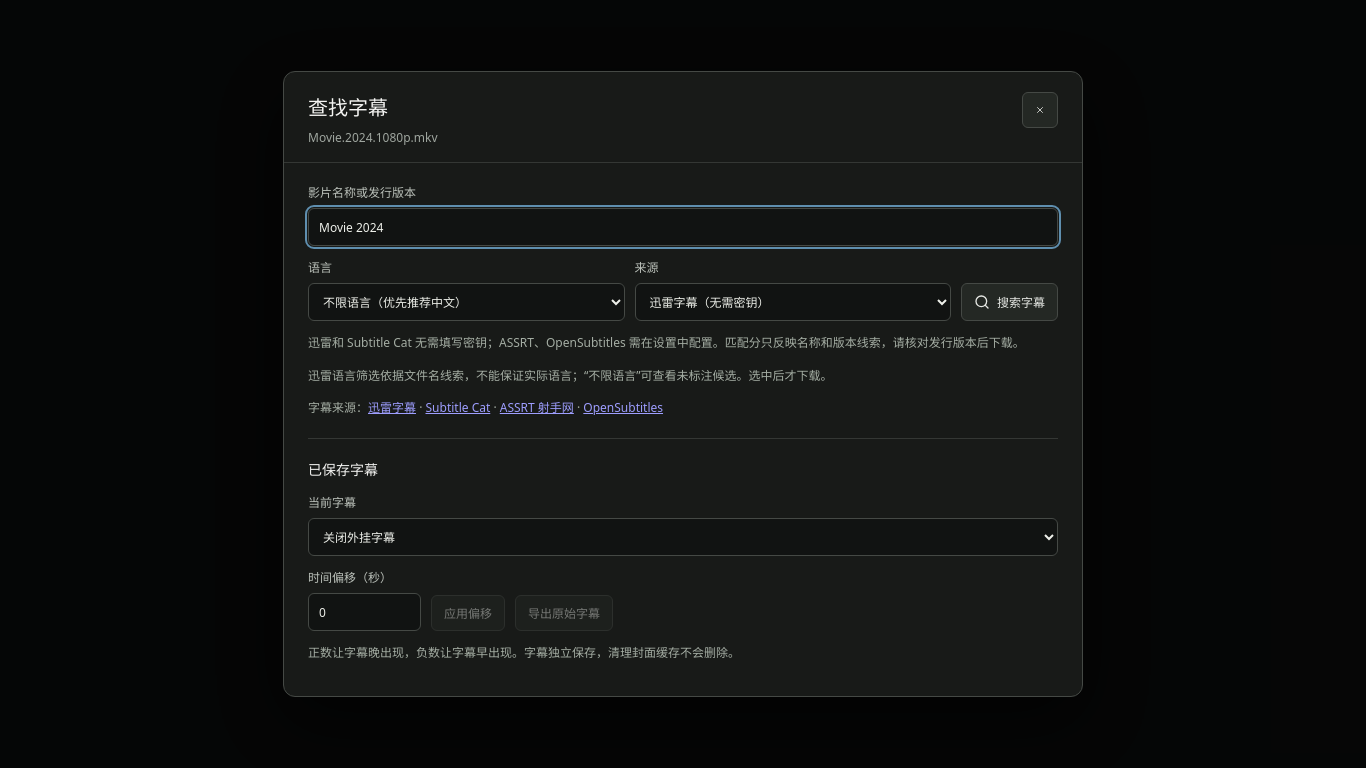
Test: subtitle interaction › does not call an outage a zero-result search
The image size is (1366, 768).
Click the button "搜索字幕" at (1010, 302), box [961, 283, 1058, 321]
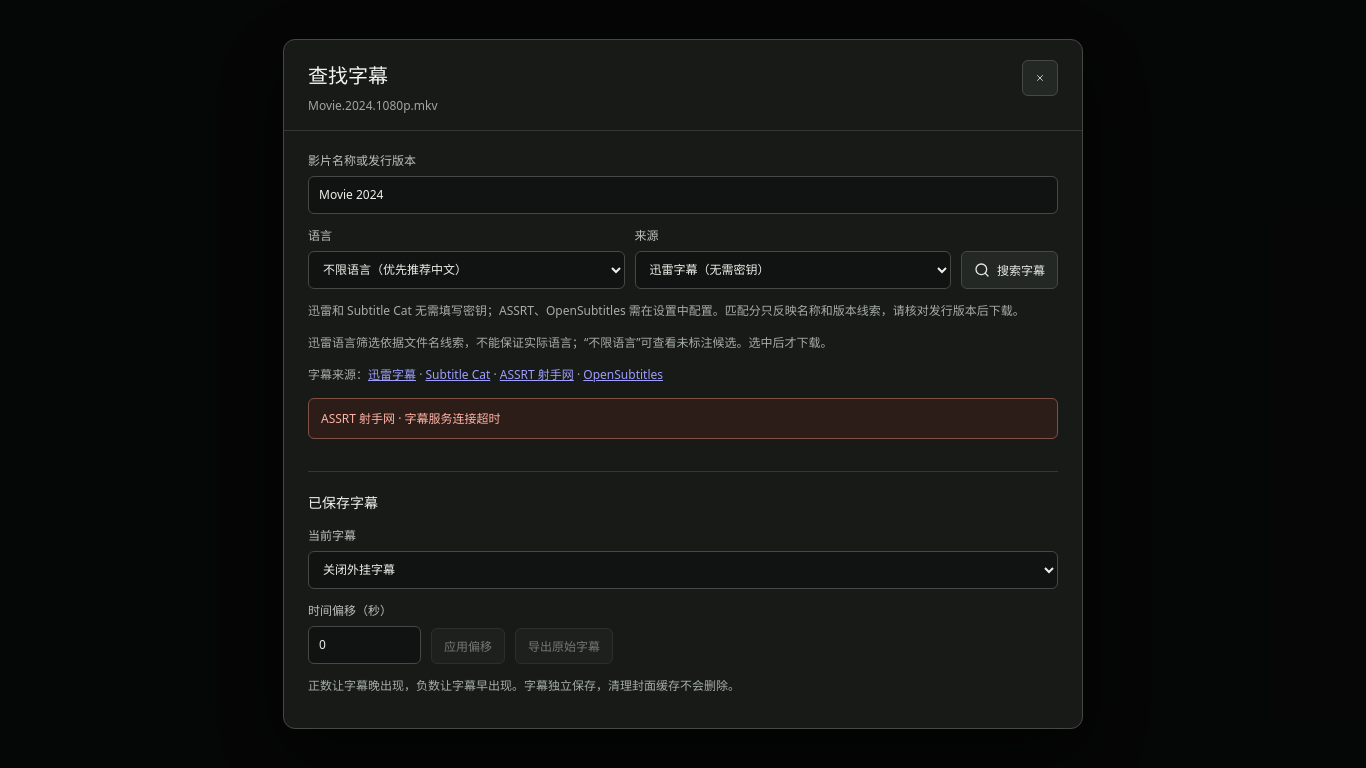
Now the text "ASSRT 射手网 · 字幕服务连接超时" is shown, box [308, 398, 1058, 439]
